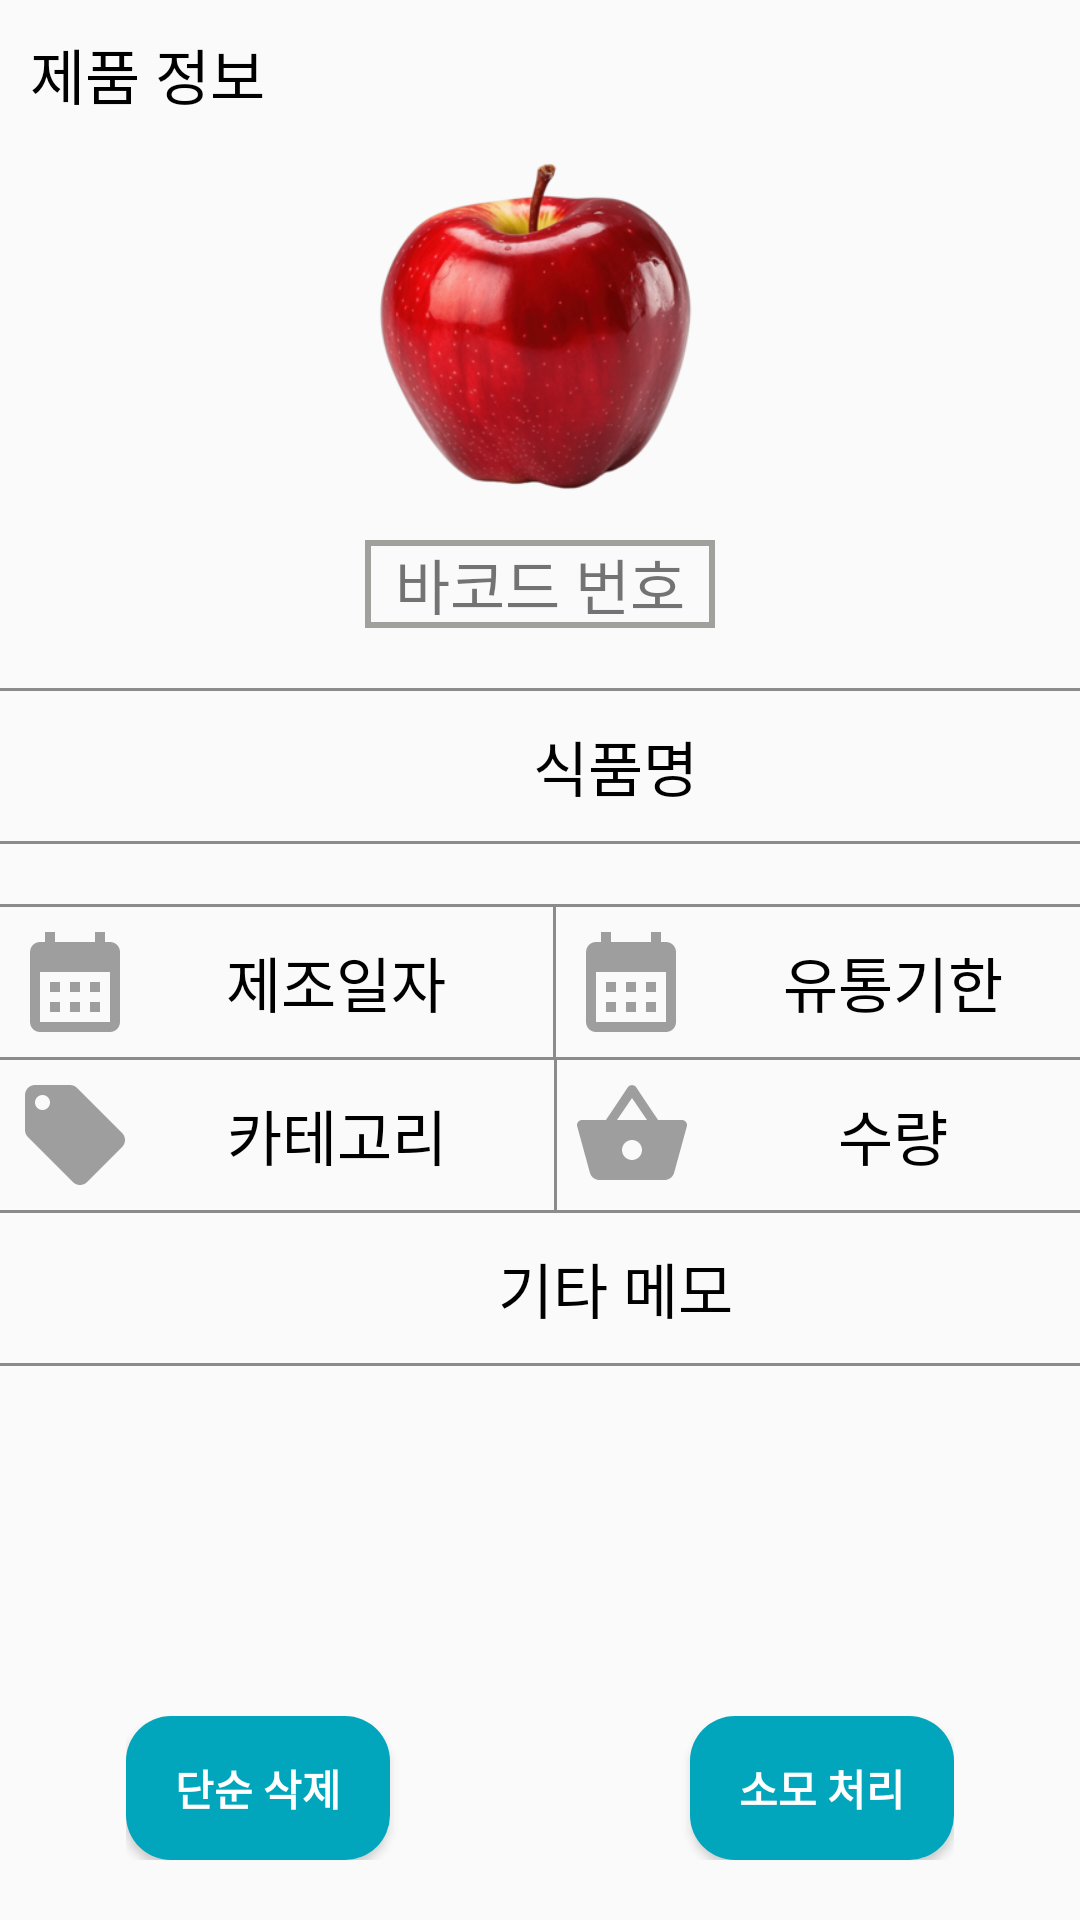

Named icons in this screenshot (1080*1920) and their bounding boxes, (x1, y1, x2, y2):
calendar month: (30, 932, 120, 1032), (586, 932, 676, 1032)
local offer: (25, 1085, 125, 1185)
shopping basket: (577, 1085, 687, 1180)
